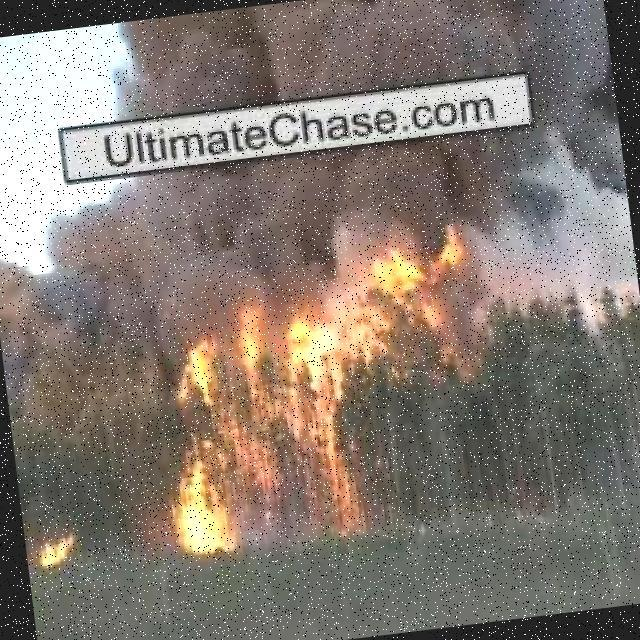Fire: (153, 307, 362, 570), (361, 231, 491, 368), (36, 518, 86, 572)
